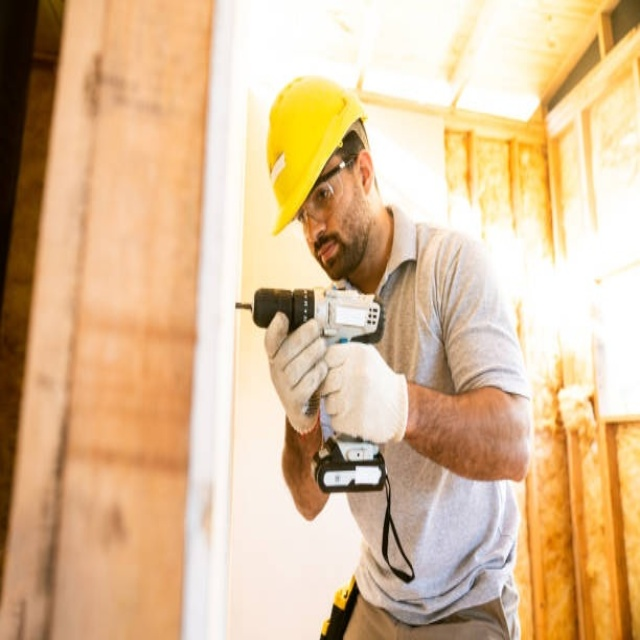Gafas: (294, 149, 360, 231)
Guantes: (313, 342, 409, 446), (265, 310, 330, 434)
Sin_mascara: (310, 237, 361, 282)
